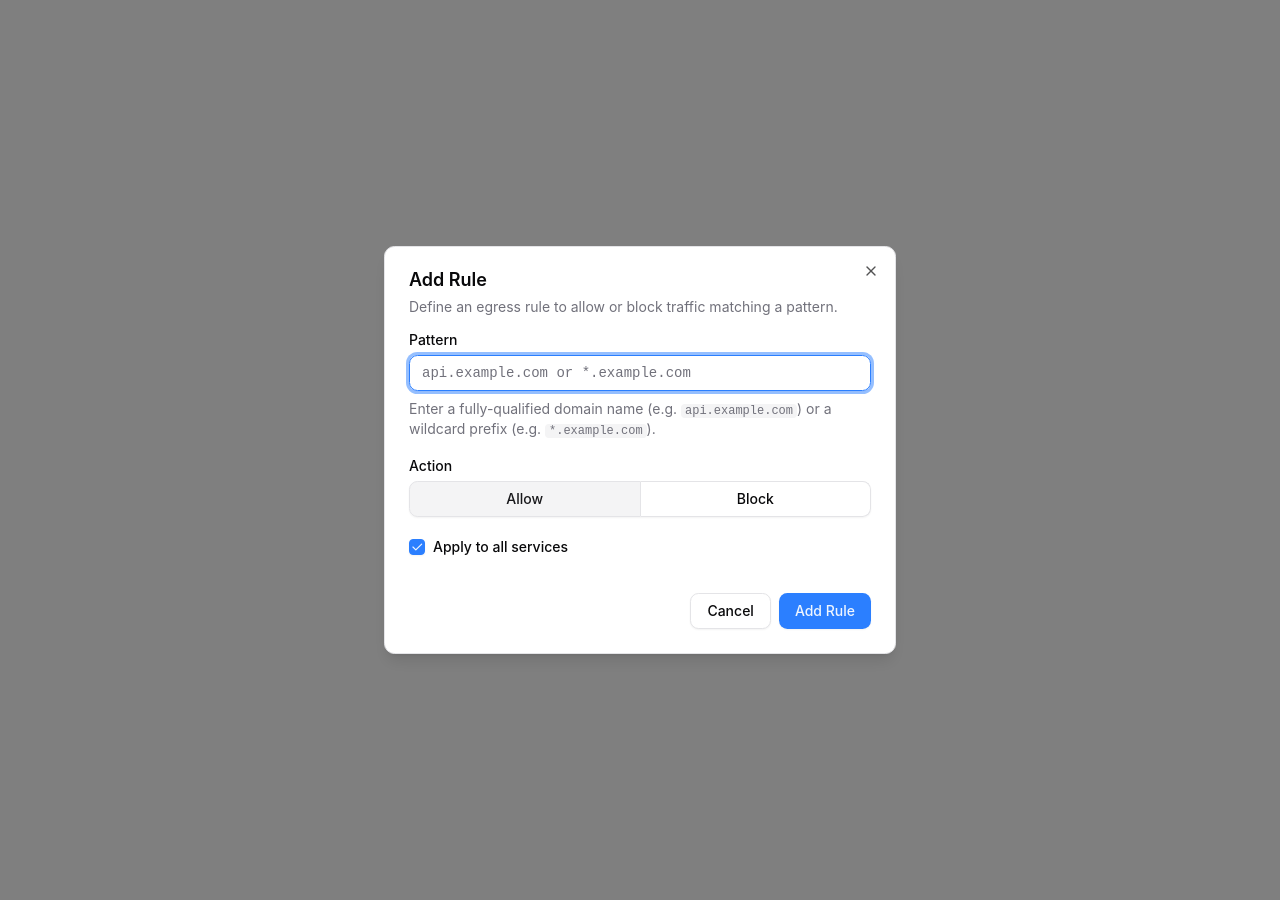
Test case: EgressRuleDialog — create mode › shows service checkboxes when 'Apply to all services' is unchecked
Click the checkbox named "Apply to all services". click: coordinates (417, 547)
box: x1=409 y1=539 x2=425 y2=555
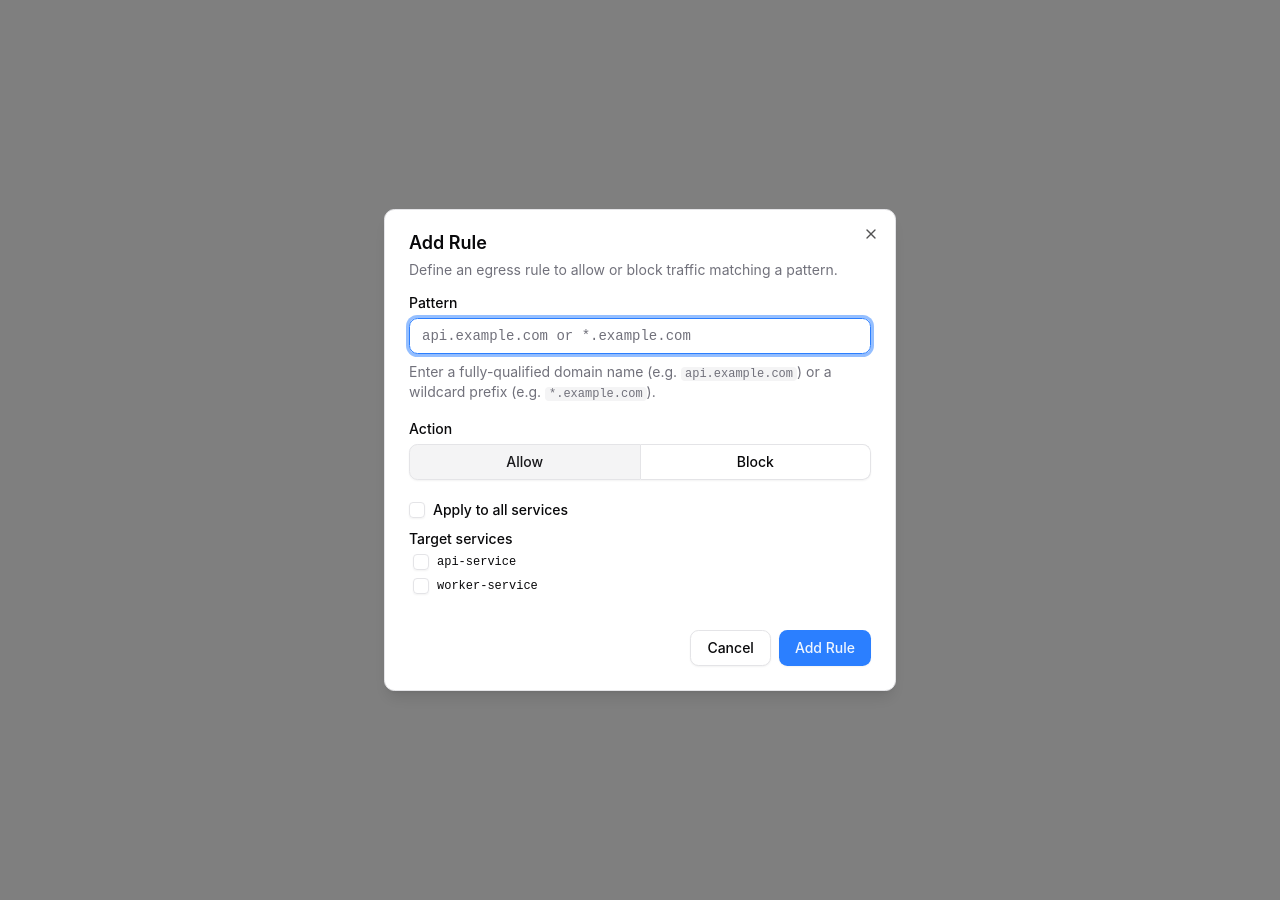
Expected: the checkbox named "api-service" next to "api-service" is shown, x1=413 y1=554 x2=429 y2=570
Expected: the checkbox named "worker-service" next to "worker-service" is shown, x1=413 y1=578 x2=429 y2=594
